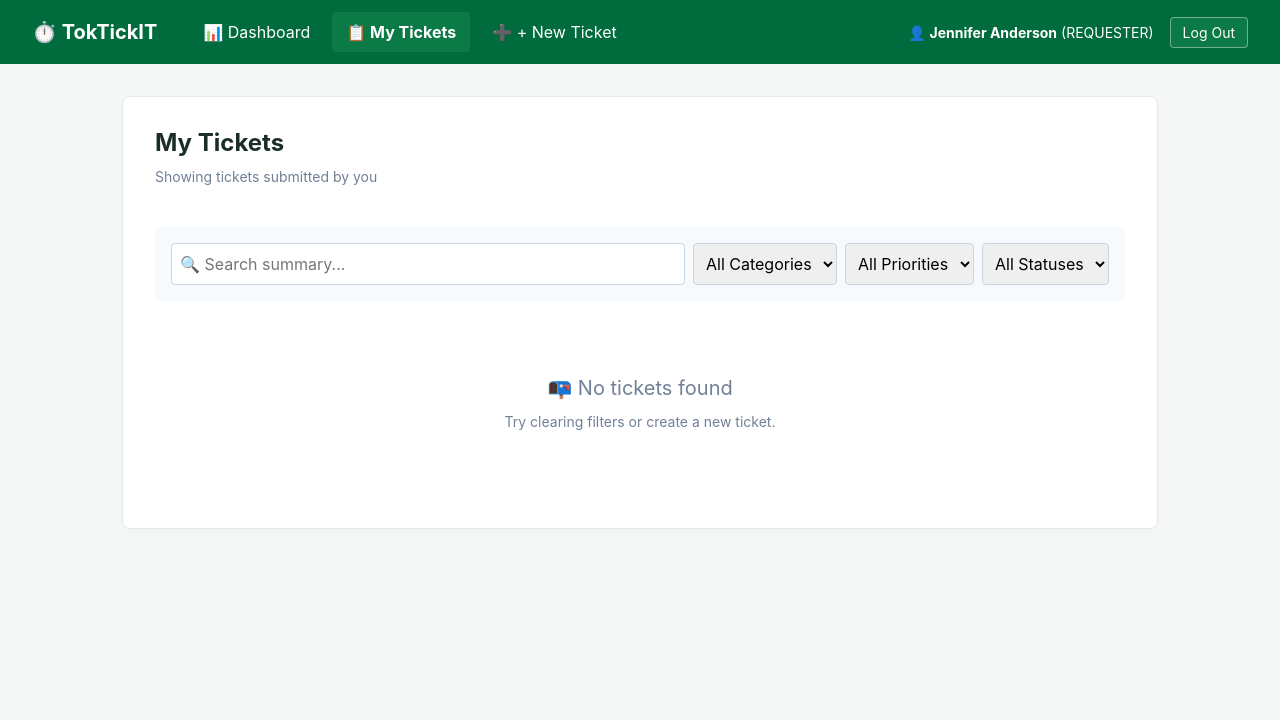
Create Ticket Component (Section 8.3) › renders Create Ticket form with read-only requester context
Click the button "➕ + New Ticket".
click(554, 32)  # box [478, 12, 631, 52]
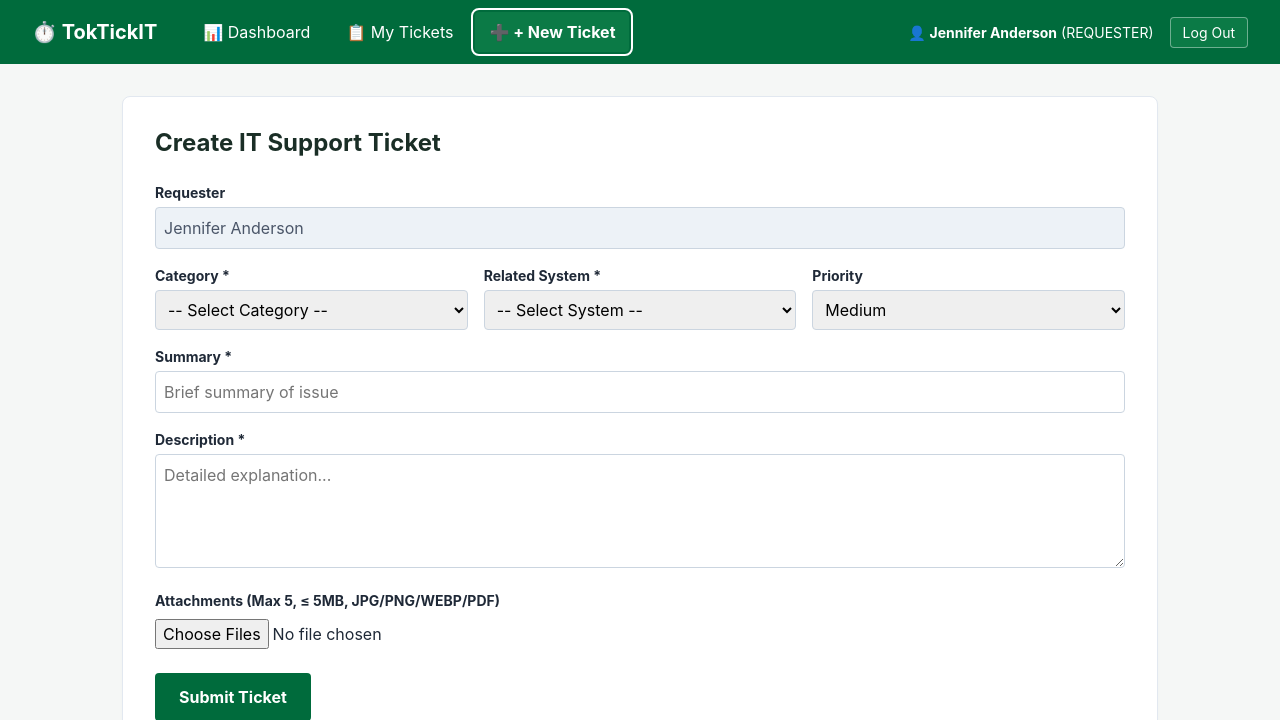
Result: the heading "Create IT Support Ticket" is shown at [155, 128, 441, 157]
Result: the field showing "Jennifer Anderson" is shown at [155, 207, 1125, 249]
